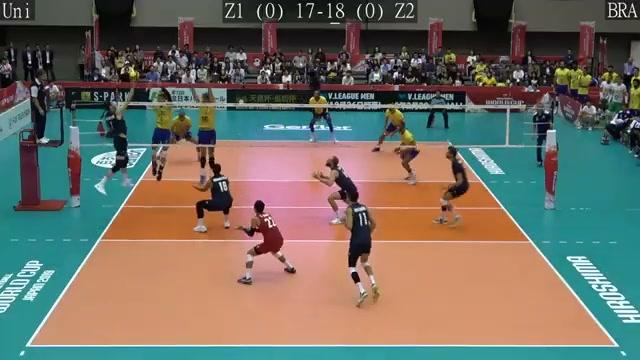ball: (124, 67, 138, 79)
